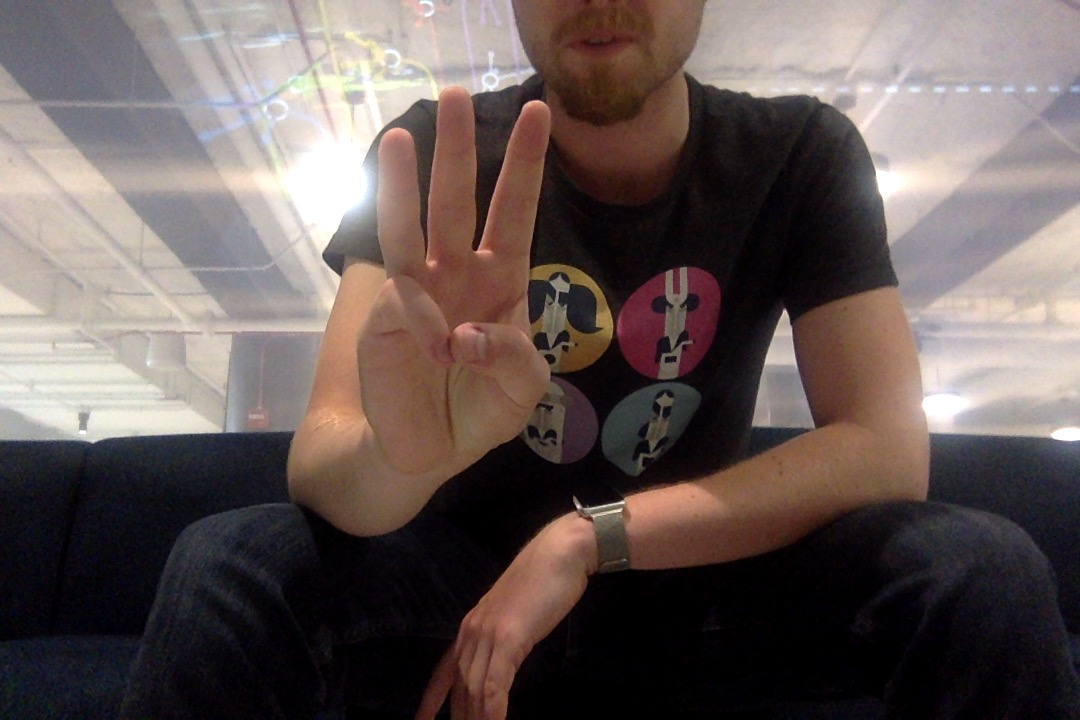w: (348, 81, 558, 478)
